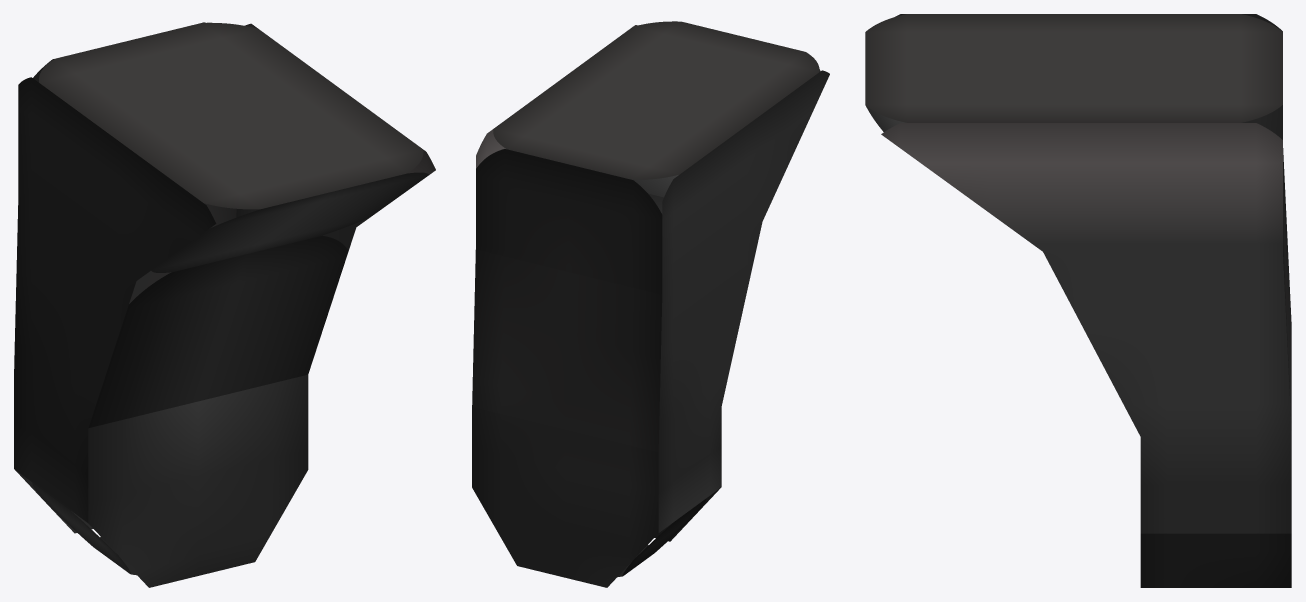
File: longitudinal_link_mount_right.obj
3 views of the same model, side by side, from view 1: azimuth 30°, elevation 25°; view 2: azimuth 150°, elevation 25°; view 3: azimuth 270°, elevation 25° (orthographic). The views are drawn at different scales.
Parts seen in each view (by area): view 1: longitudinal_link_mount_right; view 2: longitudinal_link_mount_right; view 3: longitudinal_link_mount_right.
Boxes of the visible parts, x1,y1,x2,y2 form: longitudinal_link_mount_right: [14, 22, 435, 587]; longitudinal_link_mount_right: [472, 21, 829, 587]; longitudinal_link_mount_right: [865, 14, 1291, 587].
Size of the model in its own units: 0.1812 by 0.3813 by 0.3.
